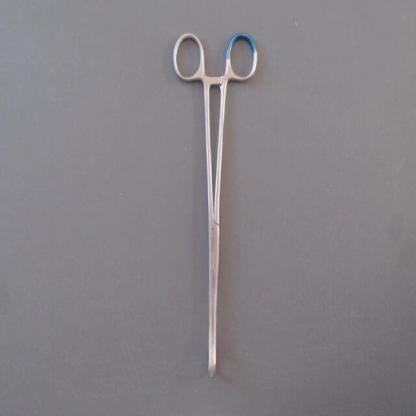Sponge Forceps: (164, 22, 263, 386)
